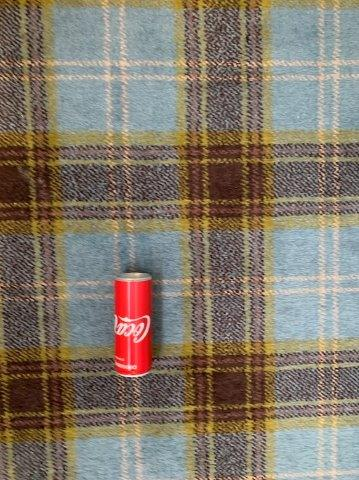kaleng: (114, 273, 153, 377)
